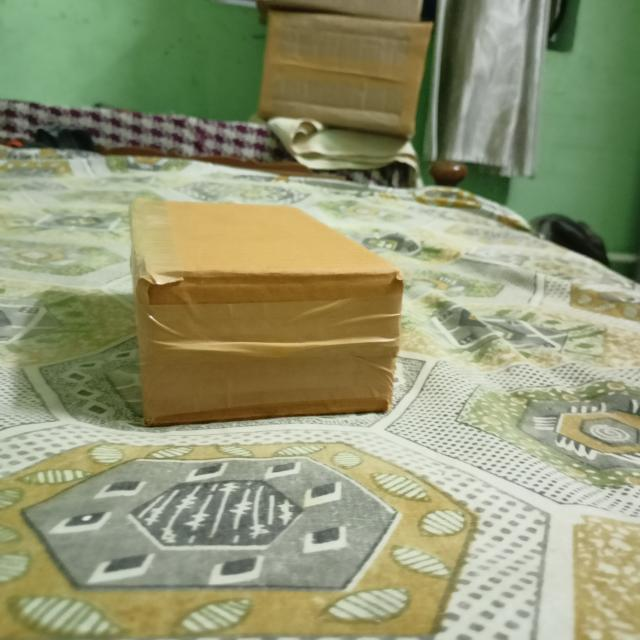box: (142, 272, 401, 429)
